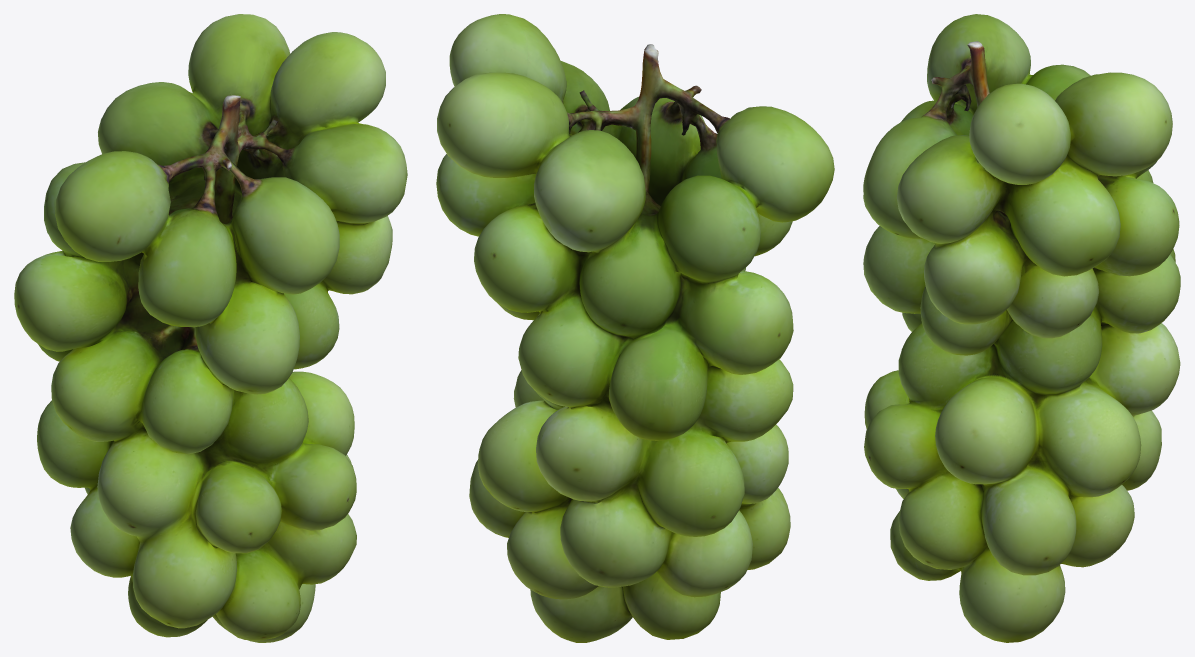
Rendered from shine.fbx.
The picture shows the model from 3 angles, left to right: view 1: azimuth 30°, elevation 25°; view 2: azimuth 150°, elevation 25°; view 3: azimuth 270°, elevation 25°; orthographic projection. The views are drawn at different scales.
Visible parts, largest first — view 1: shine; view 2: shine; view 3: shine.
Boxes of the visible parts, x1=… form: shine: x1=14, y1=14, x2=407, y2=642; shine: x1=436, y1=14, x2=834, y2=642; shine: x1=863, y1=14, x2=1180, y2=642.
Size of the model in its own units: 15.46 by 25.24 by 12.4.
